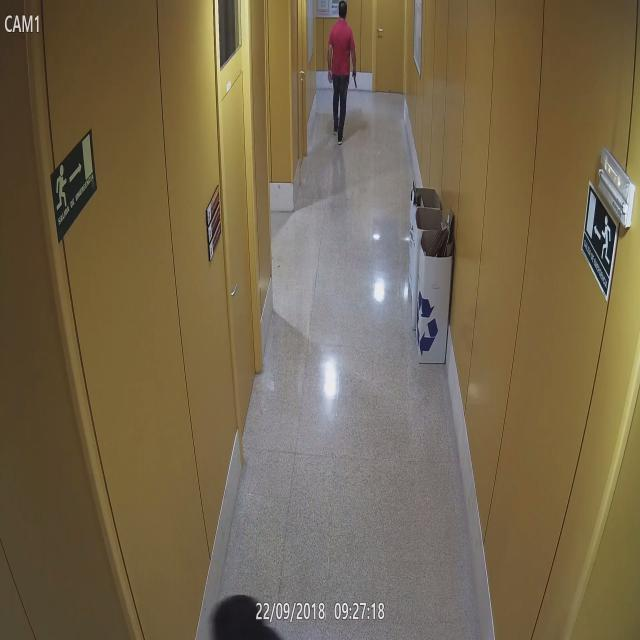Gun: (350, 68, 359, 90)
